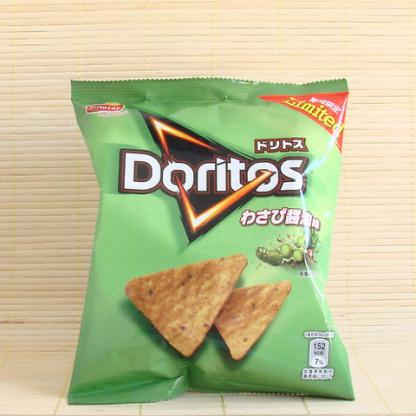potatochip: (57, 62, 362, 404)
